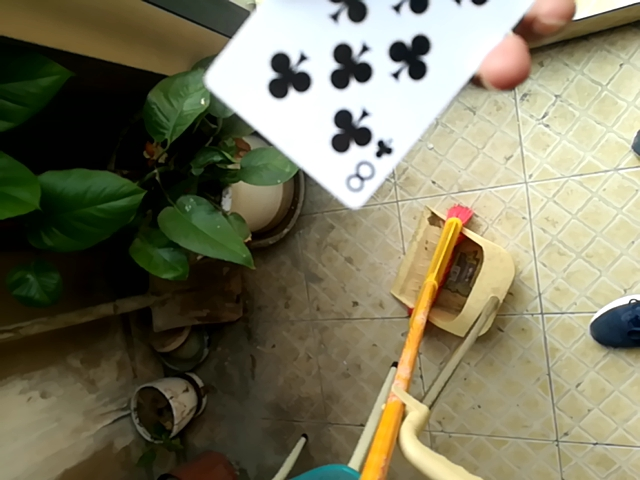mh 8: (203, 2, 566, 213)
